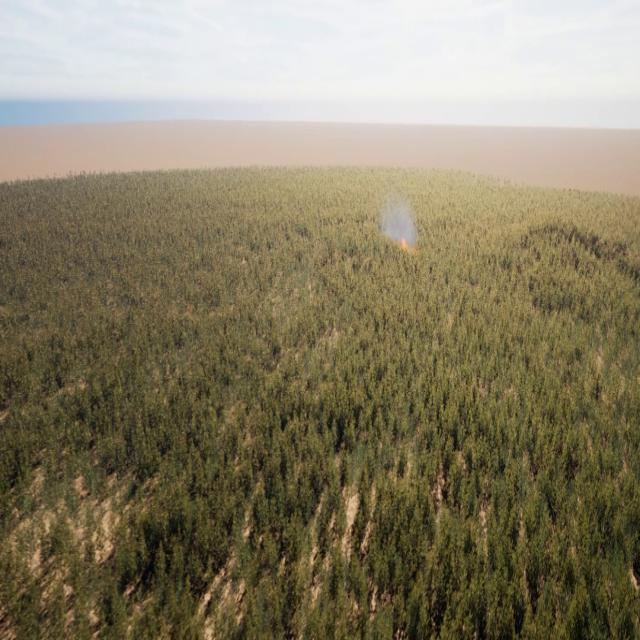fire: (399, 231, 414, 251)
smoke: (382, 193, 418, 251)
